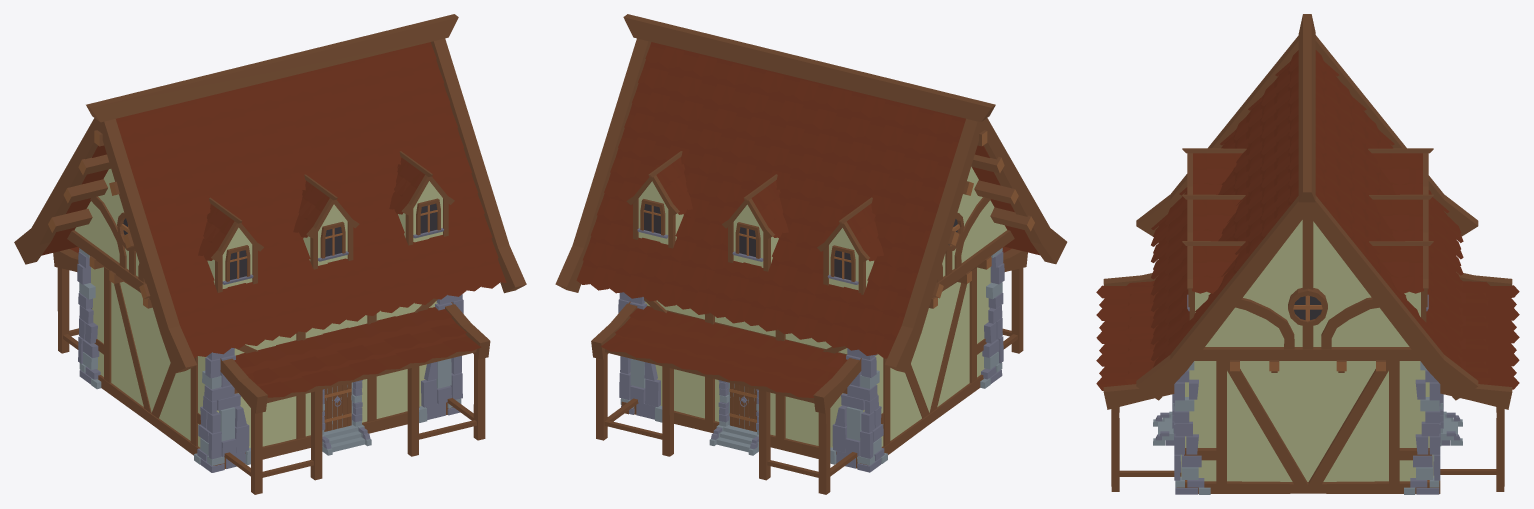
Rendered from Inn.glb.
3 views of the same model, side by side, from view 1: azimuth 30°, elevation 25°; view 2: azimuth 150°, elevation 25°; view 3: azimuth 270°, elevation 25° (orthographic).
Visible parts, largest first — view 1: Inn; view 2: Inn; view 3: Inn.
Boxes of the visible parts, x1=… form: Inn: x1=14, y1=14, x2=526, y2=494; Inn: x1=555, y1=14, x2=1067, y2=494; Inn: x1=1096, y1=14, x2=1519, y2=494.
Size of the model in its own units: 4.03 by 3.49 by 4.02.
Materials: 1 (1 with a texture image).
